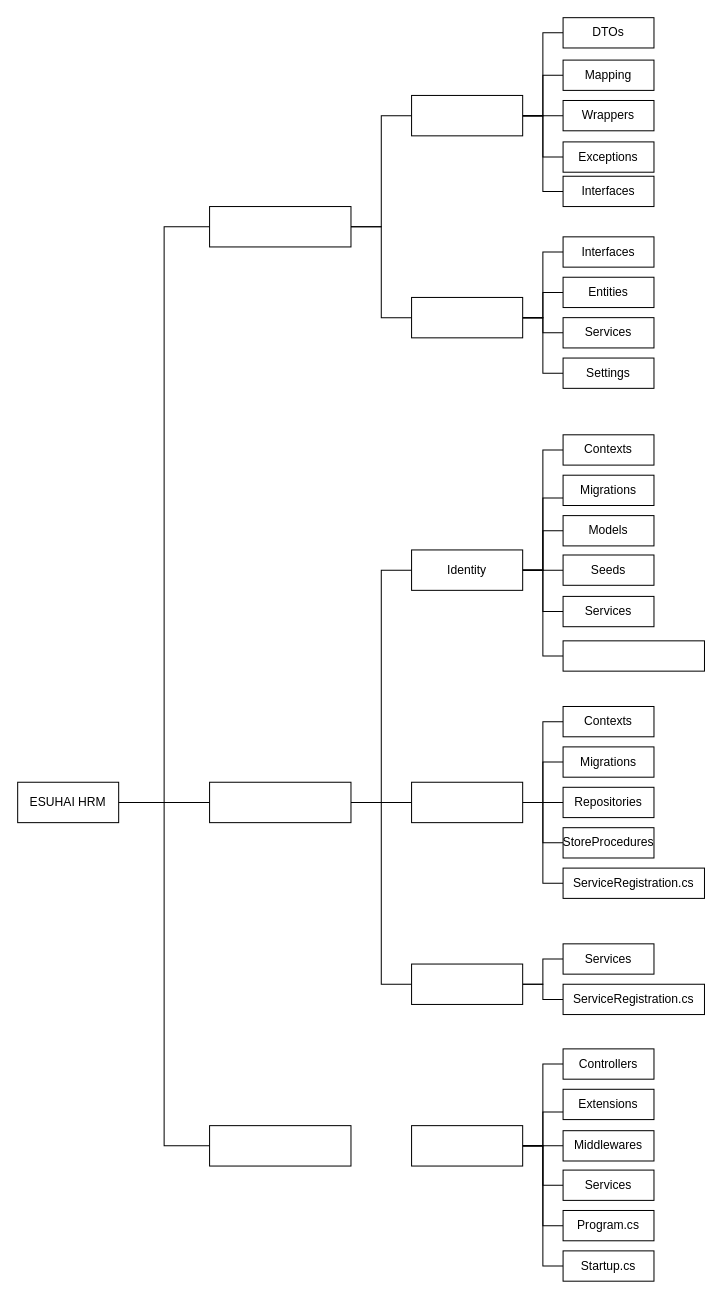
Some shapes in this 722 by 1299 pixel diagram are drawn without their labels. Here are the shapes that lost their labels. From the top down, the box of each, then its label:
(411, 94, 523, 136): Application
(209, 206, 351, 247): Core
(411, 296, 523, 338): Domain
(562, 640, 704, 671): ServiceExtensions.cs
(209, 781, 351, 823): Infrastructure
(411, 781, 523, 823): Persistence
(411, 963, 523, 1004): Shared
(209, 1125, 351, 1166): API
(411, 1125, 523, 1166): HRM API
